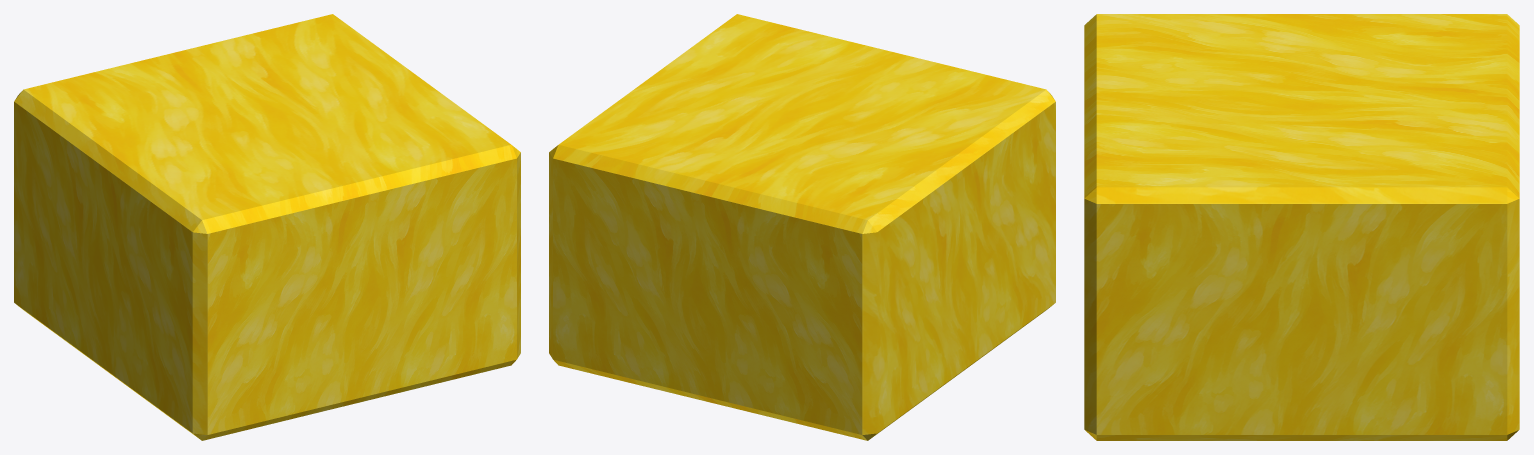
Rendered from pineapple_cube-BsNr6Kdq.glb.
3 views of the same model, side by side, from view 1: azimuth 30°, elevation 25°; view 2: azimuth 150°, elevation 25°; view 3: azimuth 270°, elevation 25° (orthographic). The views are drawn at different scales.
Visible parts, largest first — view 1: HI_pineapple_cube; view 2: HI_pineapple_cube; view 3: HI_pineapple_cube.
Boxes of the visible parts, x1,y1,x2,y2 form: HI_pineapple_cube: [14, 14, 520, 440]; HI_pineapple_cube: [549, 14, 1055, 440]; HI_pineapple_cube: [1084, 14, 1519, 440].
Size of the model in its own units: 0.28 by 0.18 by 0.28.
Materials: 1 (1 with a texture image).
